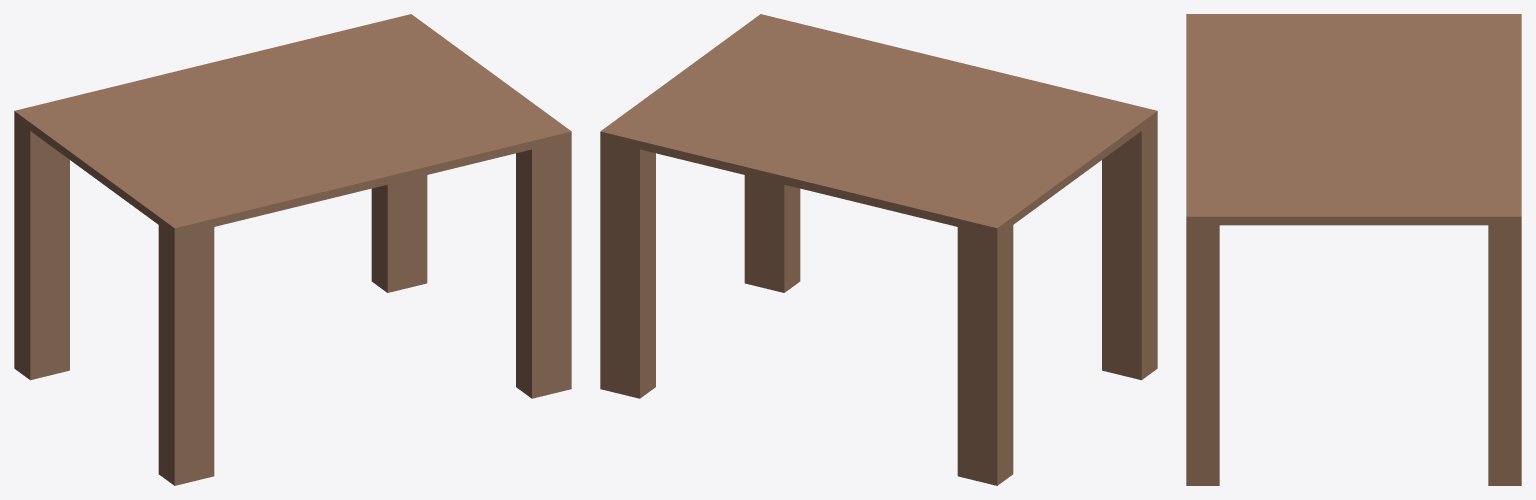
The model's file is table_youth.fbx.
The picture shows the model from 3 angles, left to right: view 1: azimuth 30°, elevation 25°; view 2: azimuth 150°, elevation 25°; view 3: azimuth 270°, elevation 25°; orthographic projection. The views are drawn at different scales.
Visible parts, largest first — view 1: table_youth; view 2: table_youth; view 3: table_youth.
Part boxes in pixels (<box>): table_youth: <box>14,14,571,485</box>; table_youth: <box>600,14,1157,485</box>; table_youth: <box>1186,14,1521,485</box>.
Size of the model in its own units: 100 by 62.02 by 70.
